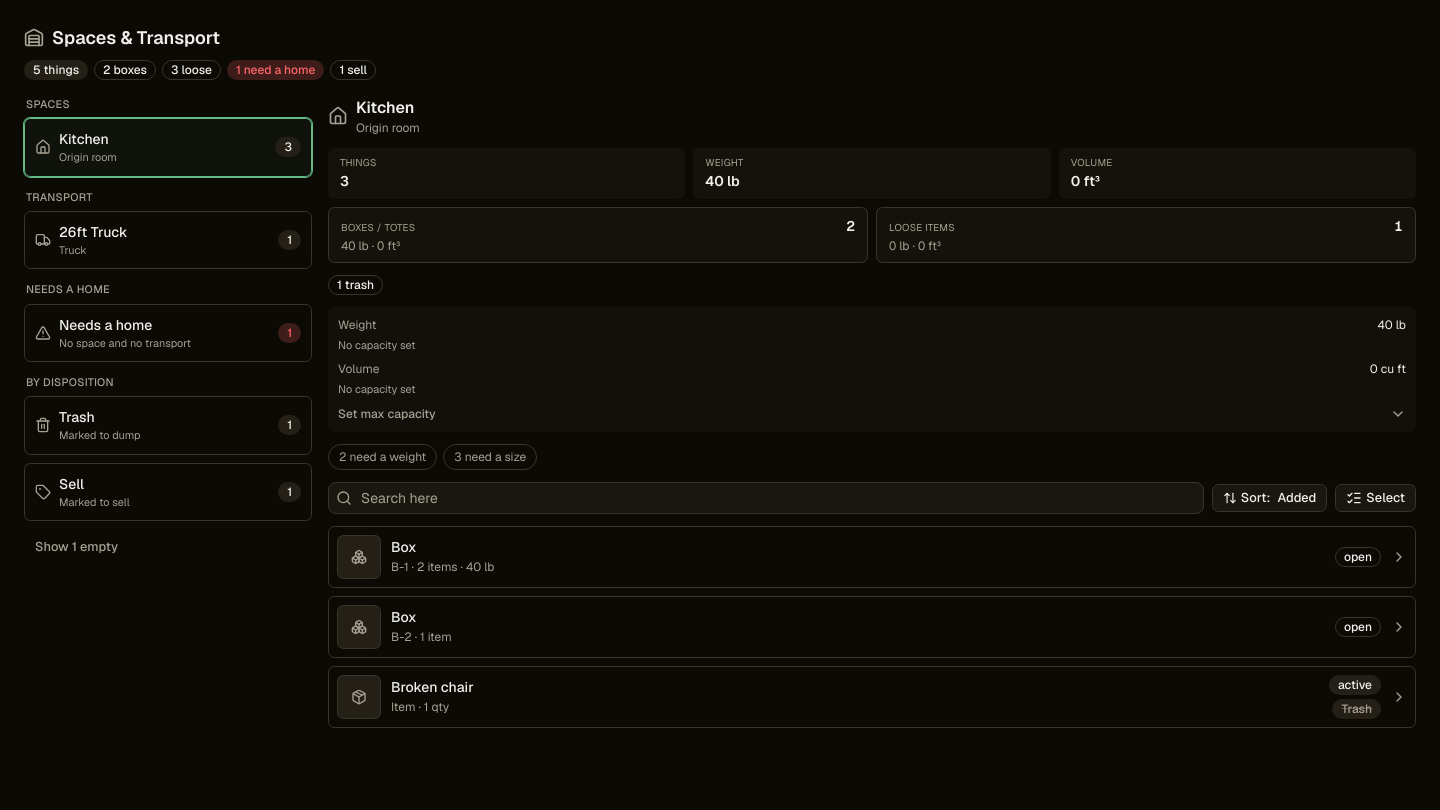
Test: SpacesTransportPageContent (mobile-first) › switches contents when another container tile is tapped
This screenshot has width=1440, height=810.
Expected: the text "Vintage lamp" is not shown
Click the button "Sell Marked to sell 1".
click(94, 502)  # box top-left (24, 462), bottom-right (312, 521)
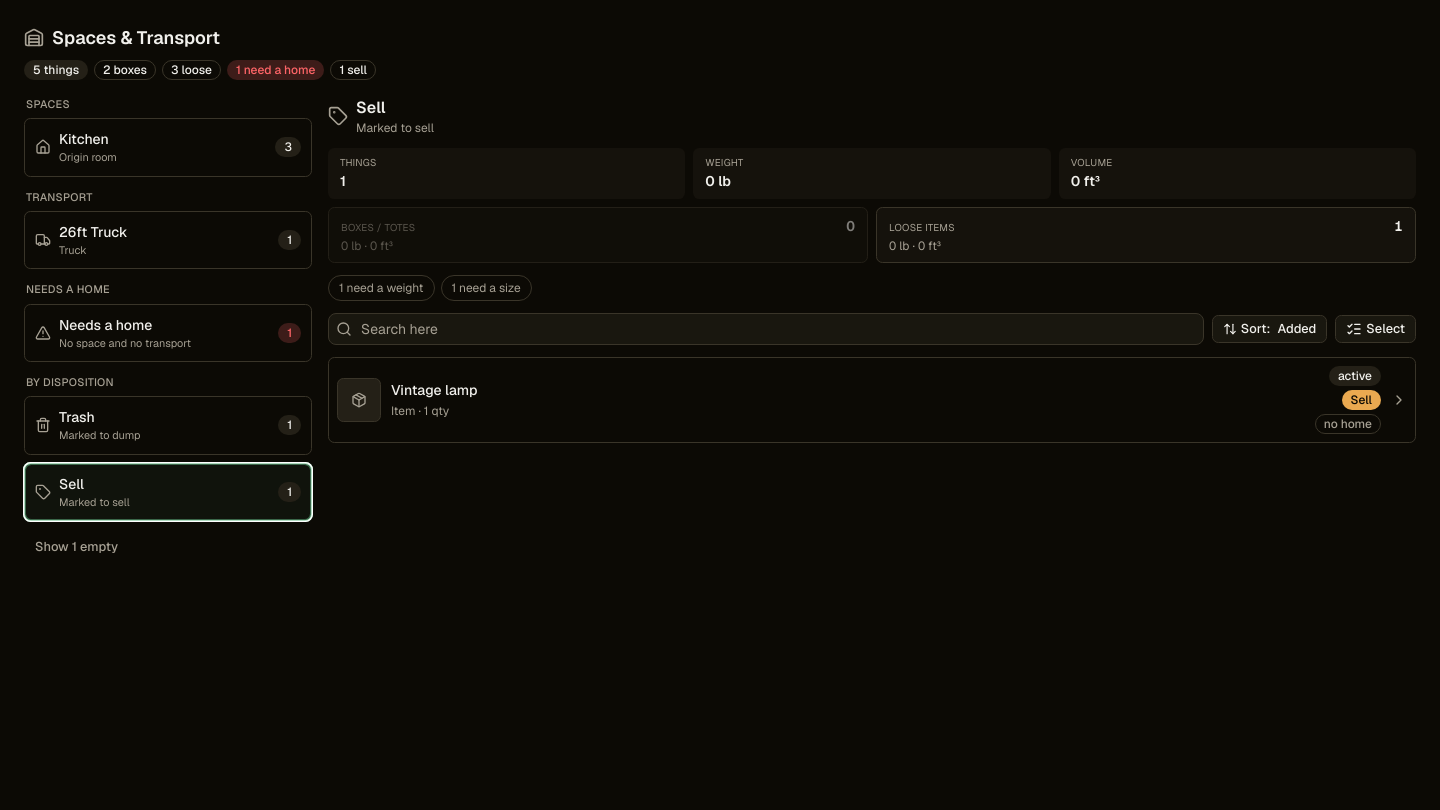
Now the text "Vintage lamp" is shown, box top-left (391, 381), bottom-right (477, 399)
